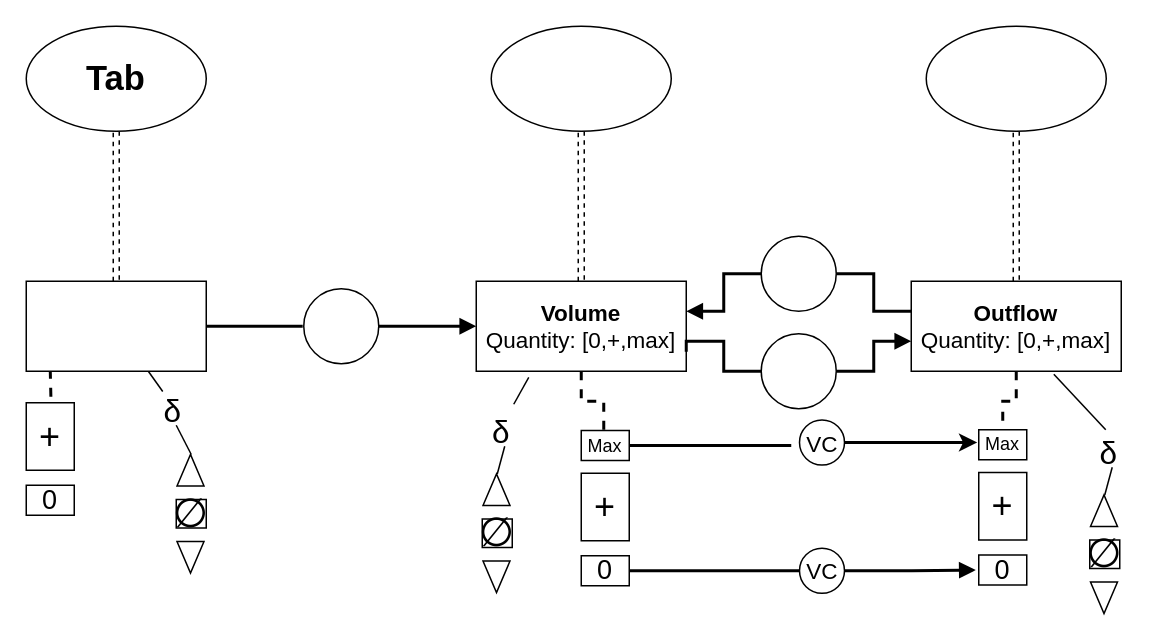
Some shapes in this 1169 by 641 pixel diagram are drawn without their labels. The centre of each missing label's shape, as x and y in pixels:
"Container" belongs at pixel 580 78.
"Drain" belongs at pixel 1015 78.
"I+" belongs at pixel 340 325.
"I-" belongs at pixel 798 273.
"Inflow Quantity: [0,+]" belongs at pixel 115 325.
"P+" belongs at pixel 798 370.
